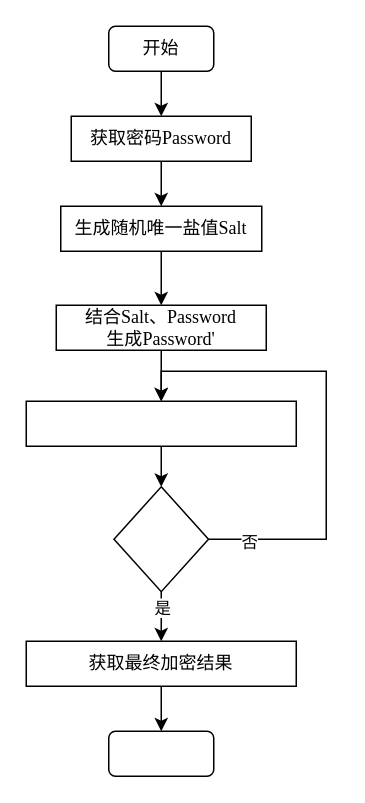
Some shapes in this 365 by 803 pixel diagram are drawn without their labels. Each missing label, with the box of its shape:
使用 Eksblowfish 算法进行加密: (25, 400, 296, 446)
结束: (107, 730, 214, 776)
达到加密迭 代次数: (112, 485, 208, 592)
